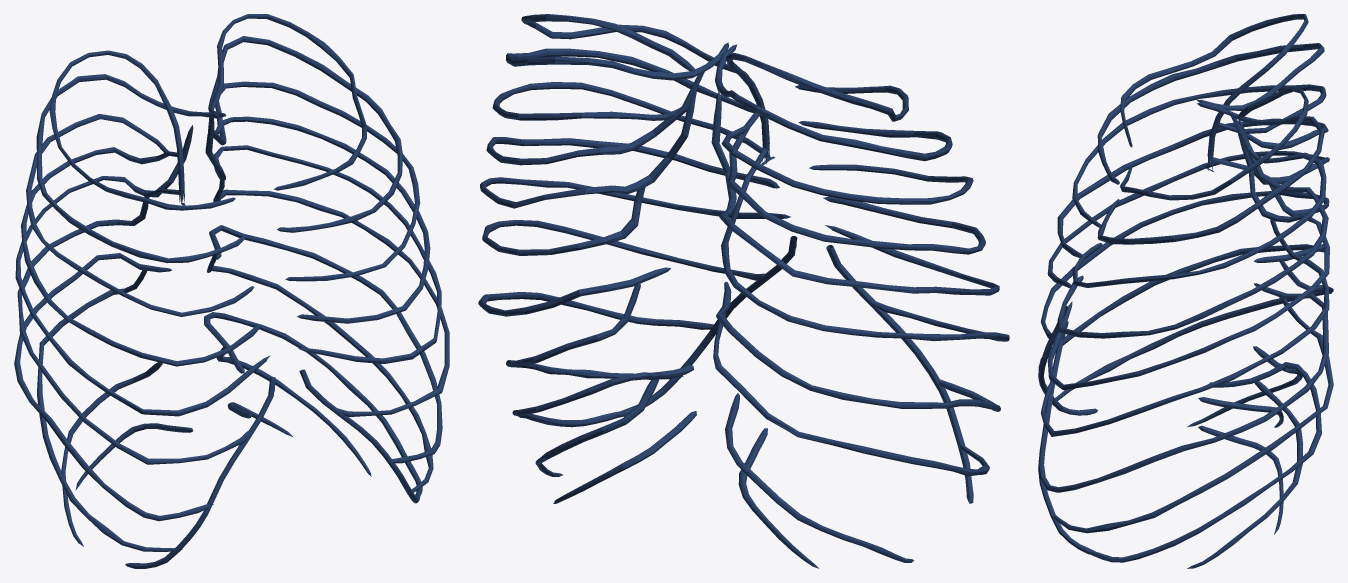
File: Vena Intercostal.FBX
The picture shows the model from 3 angles, left to right: view 1: azimuth 30°, elevation 25°; view 2: azimuth 150°, elevation 25°; view 3: azimuth 270°, elevation 25°; orthographic projection. The views are drawn at different scales.
Visible parts, largest first — view 1: CS_Veins; view 2: CS_Veins; view 3: CS_Veins.
Part boxes in pixels (x1=…): CS_Veins: x1=14, y1=14, x2=449, y2=568; CS_Veins: x1=478, y1=14, x2=1009, y2=568; CS_Veins: x1=1038, y1=14, x2=1333, y2=568.
Size of the model in its own units: 949 by 1032 by 629.
